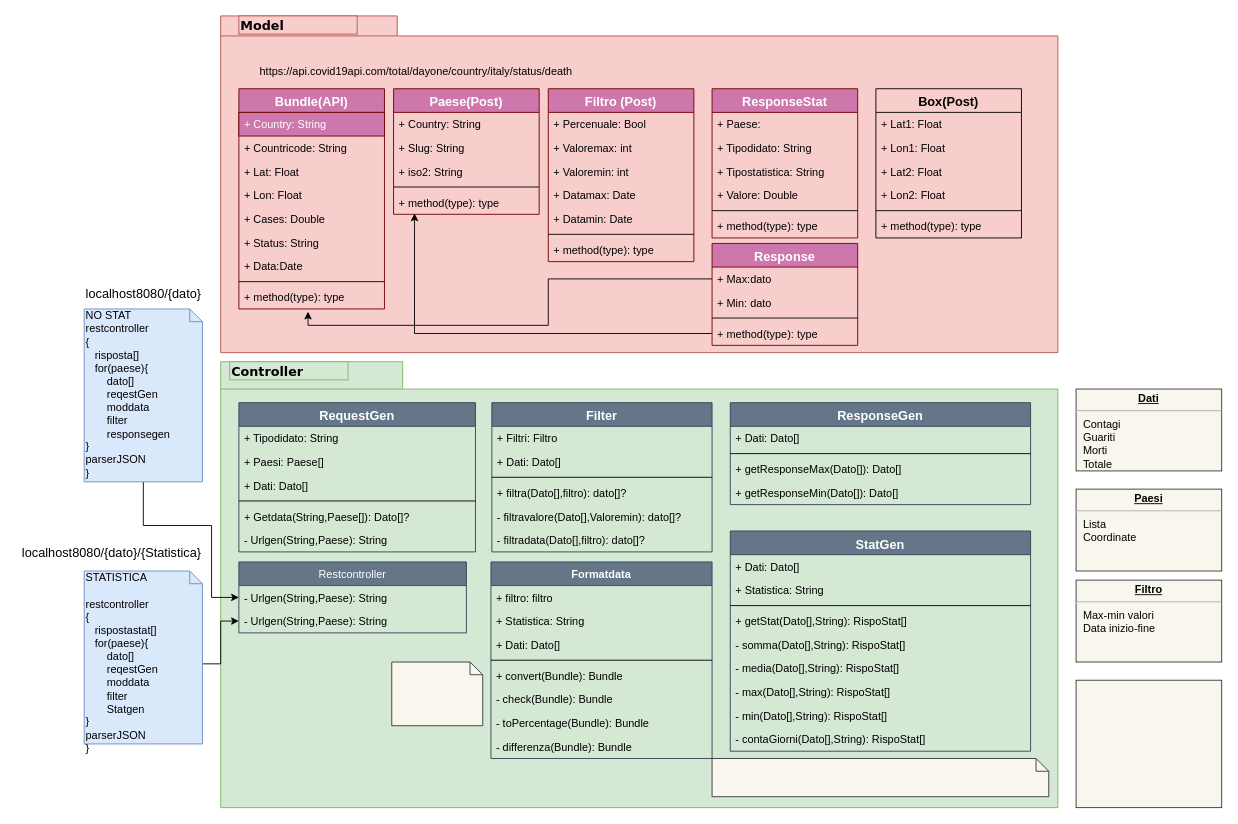
The diagram is 1238 pixels wide and 824 high, and some of its shapes have lost their labels. The centre of each missing label's shape, as x and y in pixels:
"Controllo : se somma o conta giorni non faccio niente" goes at (437,693).
"Somma : prendo ultimo dato Conta giorni: prendo lunghezza vettore dati" goes at (880,777).
"Statistiche Somma Media Max Min Scostamento Scostamento % Conta giorni" goes at (1148,743).
